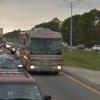Bus: (14, 29, 68, 76)
